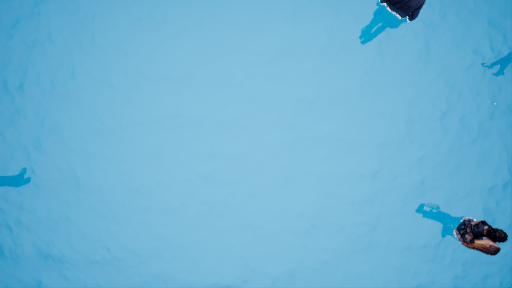person: (418, 199, 504, 257)
